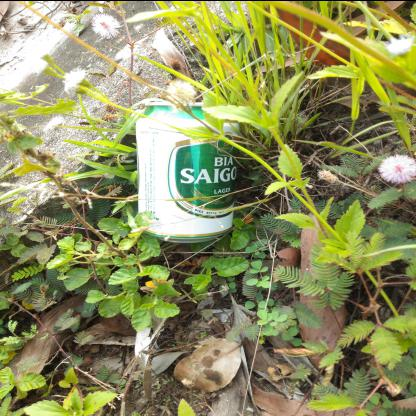metal: (133, 98, 242, 242)
